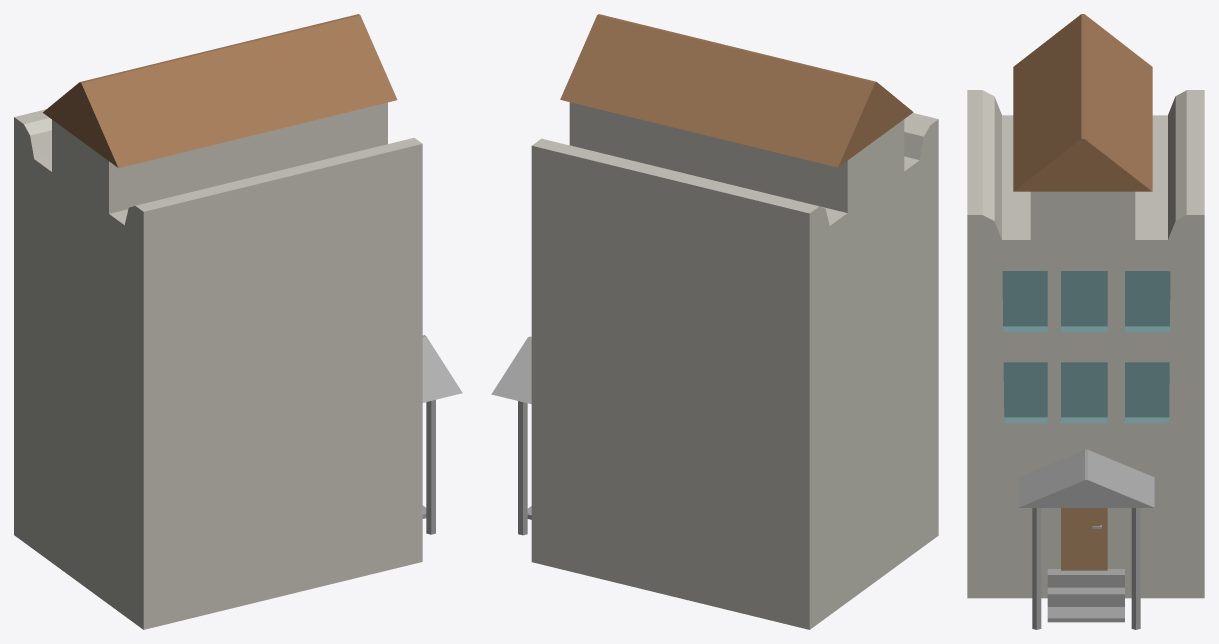
Rendered from houseb.fbx.
The picture shows the model from 3 angles, left to right: view 1: azimuth 30°, elevation 25°; view 2: azimuth 150°, elevation 25°; view 3: azimuth 270°, elevation 25°; orthographic projection. The views are drawn at different scales.
Visible parts, largest first — view 1: polySurface36; view 2: polySurface36; view 3: polySurface36.
Part boxes in pixels (x1=…): polySurface36: x1=14, y1=14, x2=462, y2=629; polySurface36: x1=491, y1=14, x2=938, y2=629; polySurface36: x1=967, y1=14, x2=1204, y2=629.
Size of the model in its own units: 22.16 by 31.16 by 14.32.
